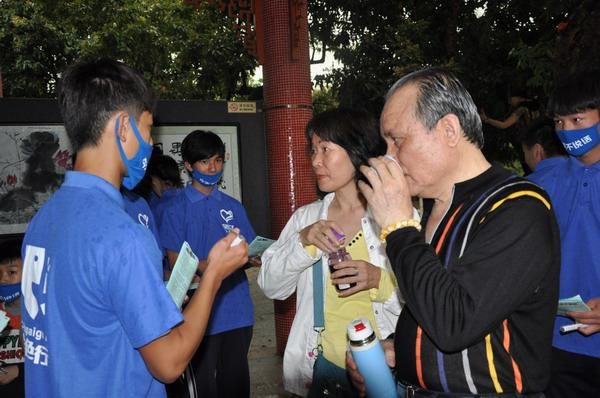NONE: (378, 96, 460, 196), (311, 134, 358, 192)
OK: (553, 105, 600, 152)
WRONG: (117, 109, 156, 193), (186, 148, 225, 187)
